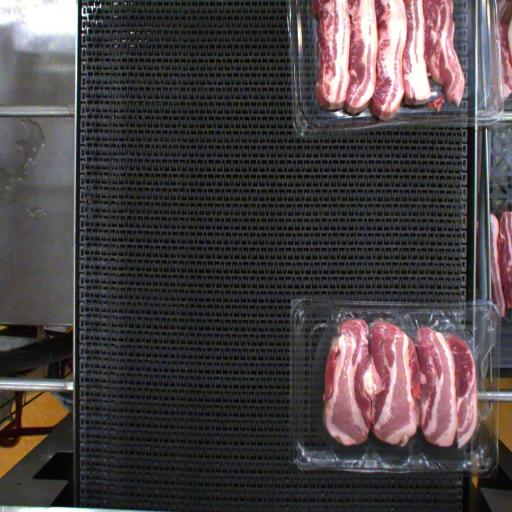unsealed: (315, 298, 497, 452)
